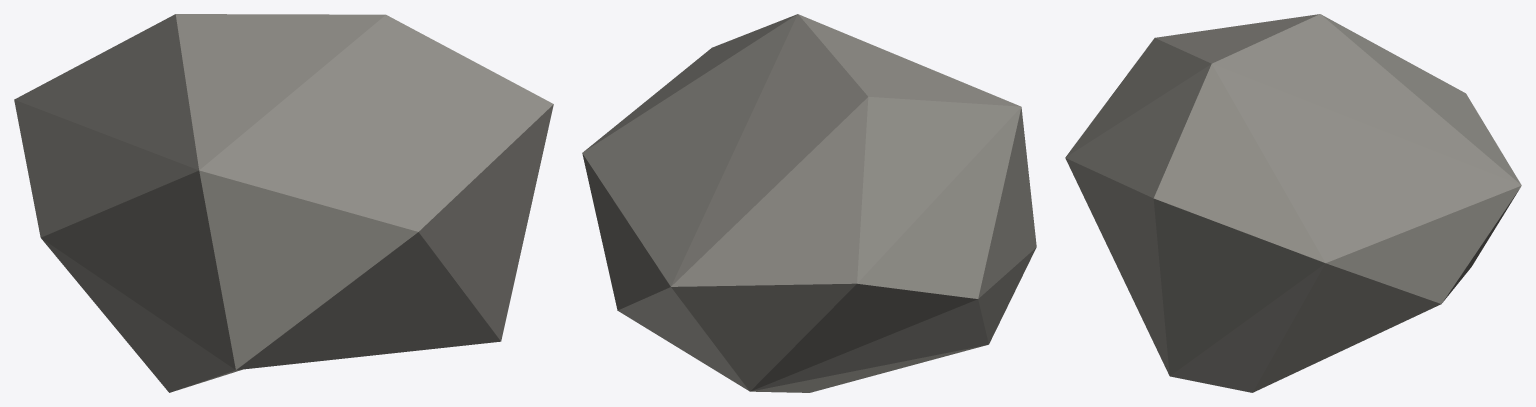
Rendered from SM_Env_Rock_Small_01.glb.
3 renders of one model, left to right at view 1: azimuth 30°, elevation 25°; view 2: azimuth 150°, elevation 25°; view 3: azimuth 270°, elevation 25°, orthographic. The views are drawn at different scales.
Parts seen in each view (by area): view 1: SM_Env_Rock_Small_01; view 2: SM_Env_Rock_Small_01; view 3: SM_Env_Rock_Small_01.
Part boxes in pixels (x1,y1,x2,y2): SM_Env_Rock_Small_01: [14, 14, 553, 392]; SM_Env_Rock_Small_01: [582, 14, 1036, 392]; SM_Env_Rock_Small_01: [1065, 14, 1521, 392].
Bounding box in the file's own units: 0.3275 × 0.258 × 0.3419.
Materials: 1 (1 with a texture image).
